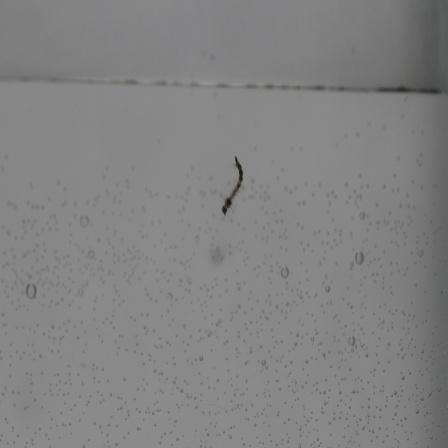Jentik-Nyamuk: (217, 149, 244, 227)
